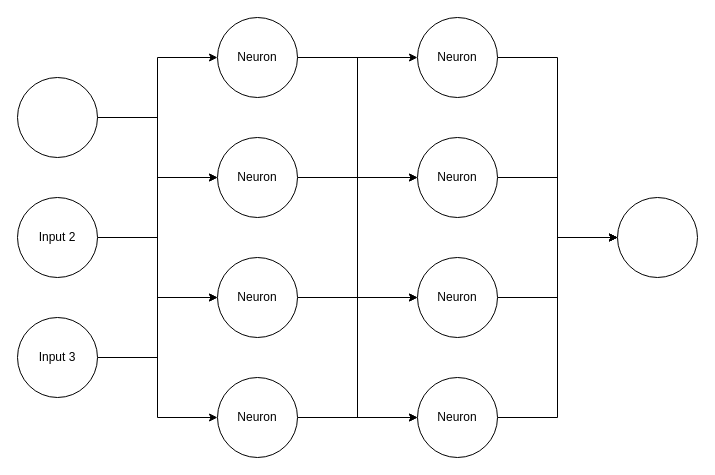
Image size: 715x475. Some labels were removed from this diagram. Each missing label, with the centre of its shape:
Input 1: (x=57, y=117)
Output: (x=657, y=237)
